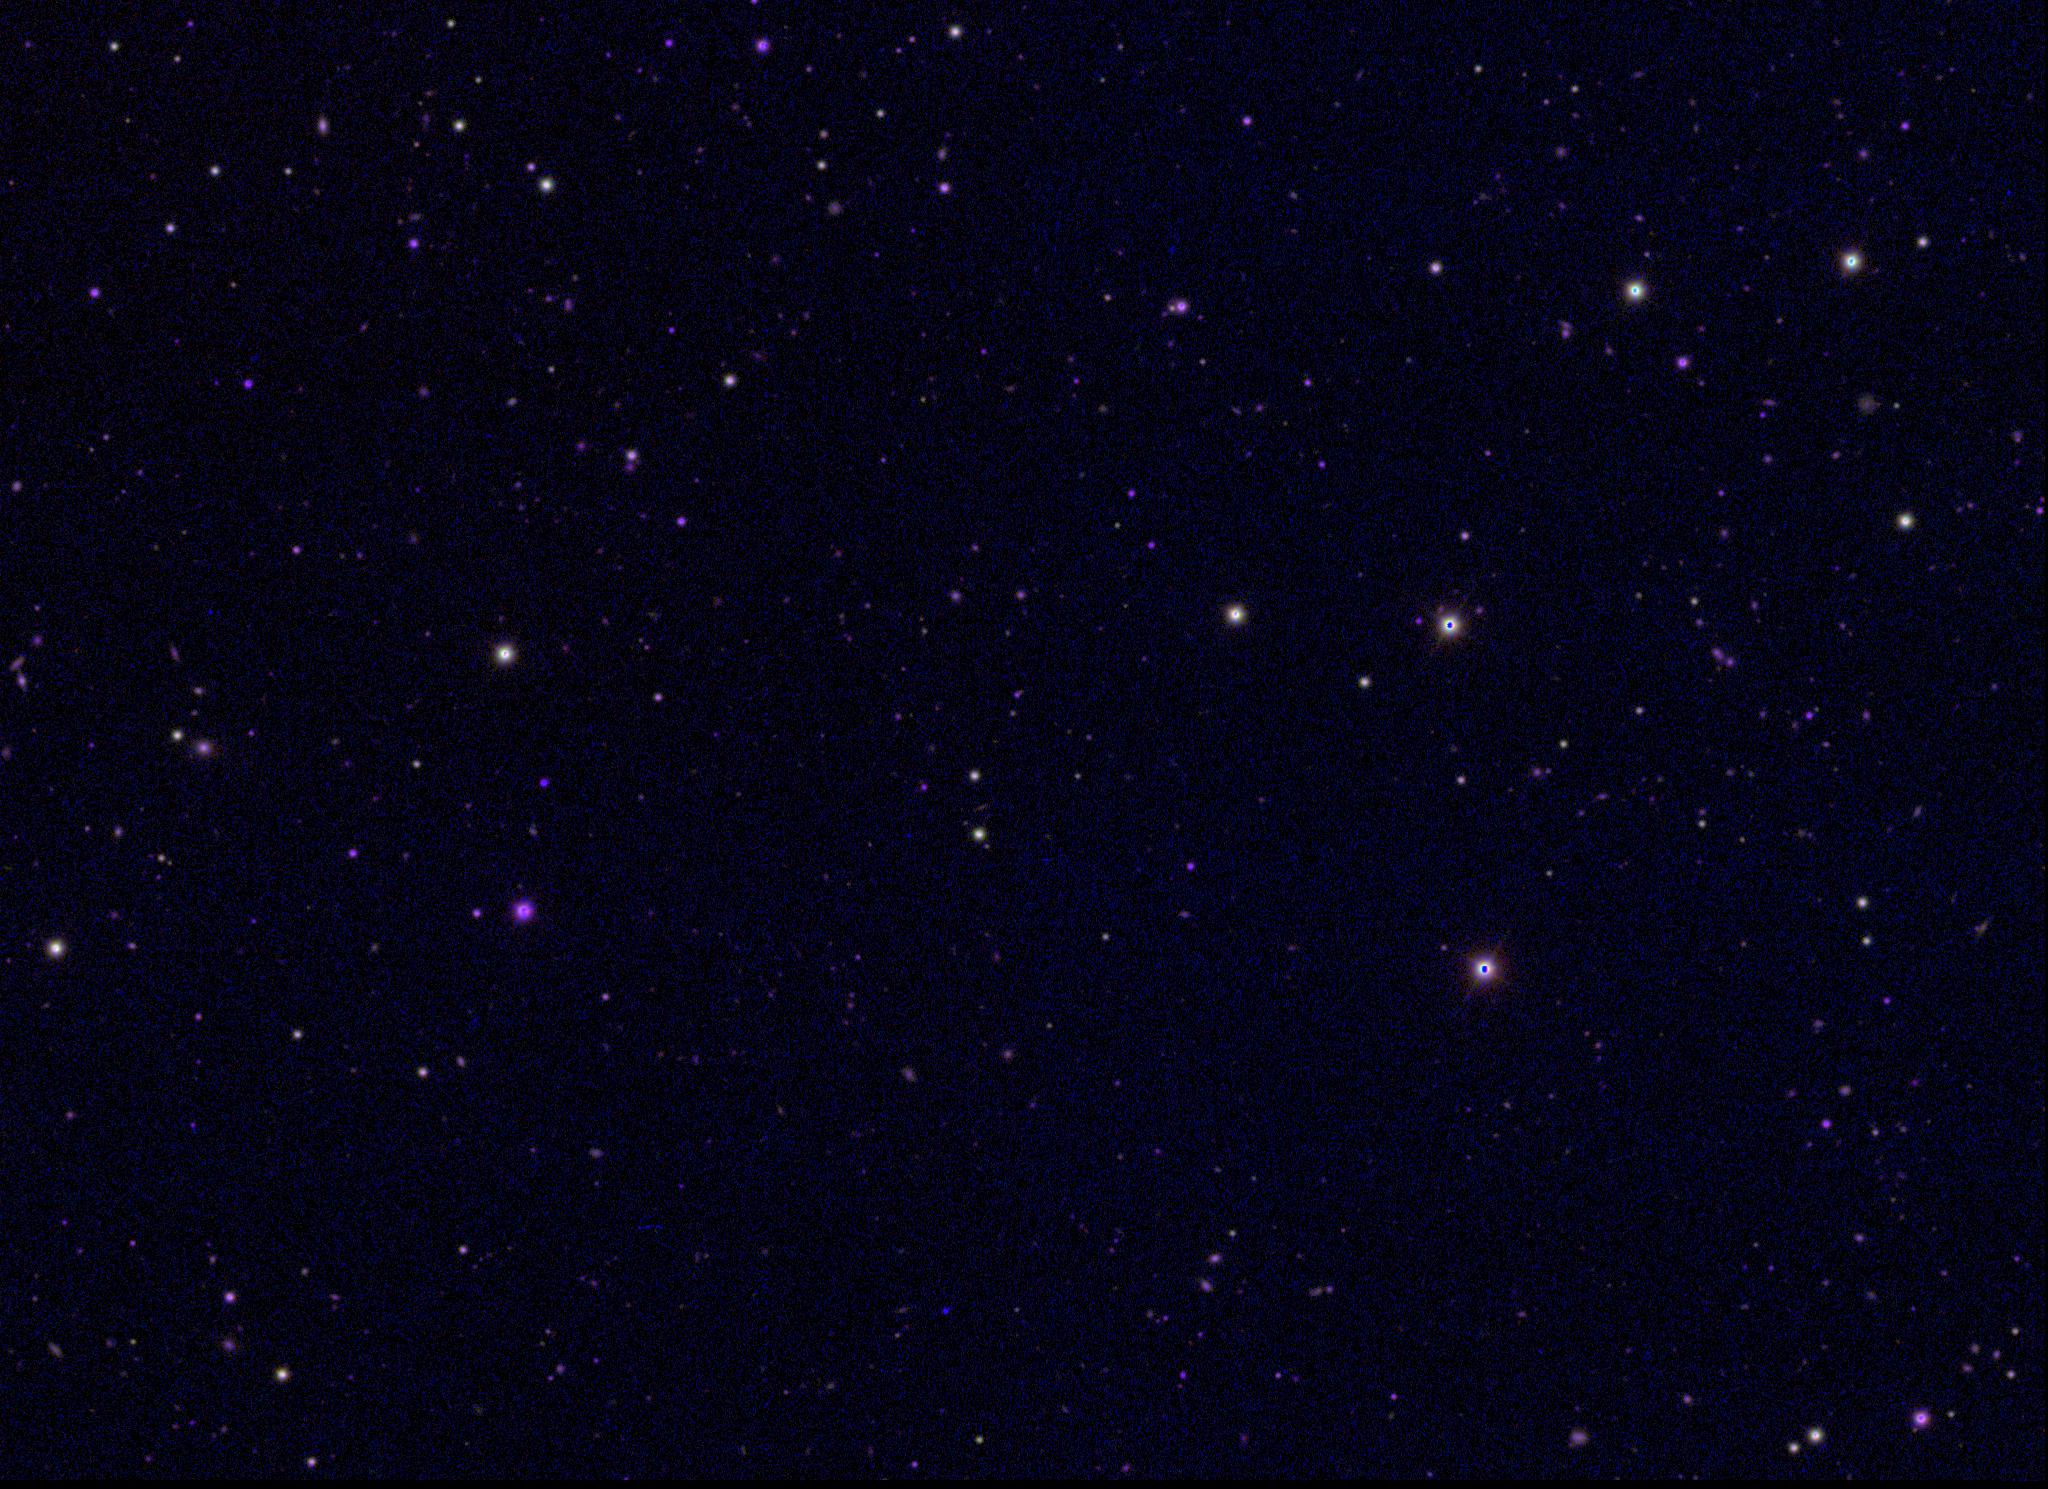L: (940, 1303, 952, 1317)
